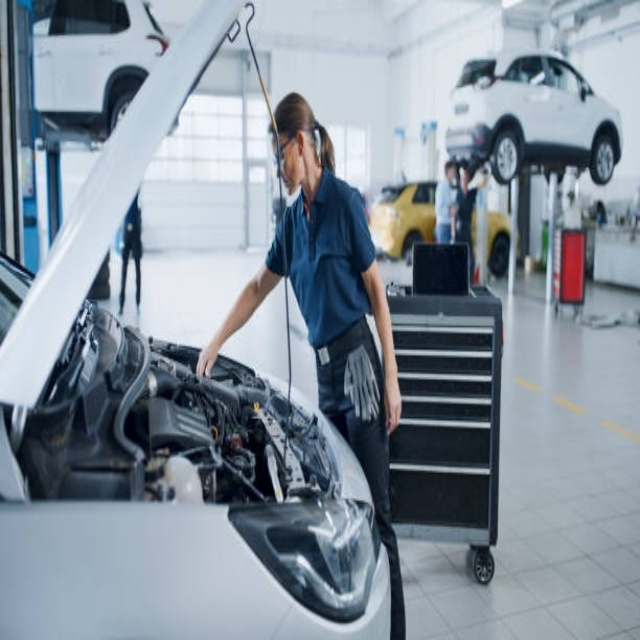Gafas: (271, 131, 302, 170)
Sin_guantes: (381, 359, 408, 437), (195, 335, 222, 380)
Sin_mascara: (273, 166, 294, 193)
